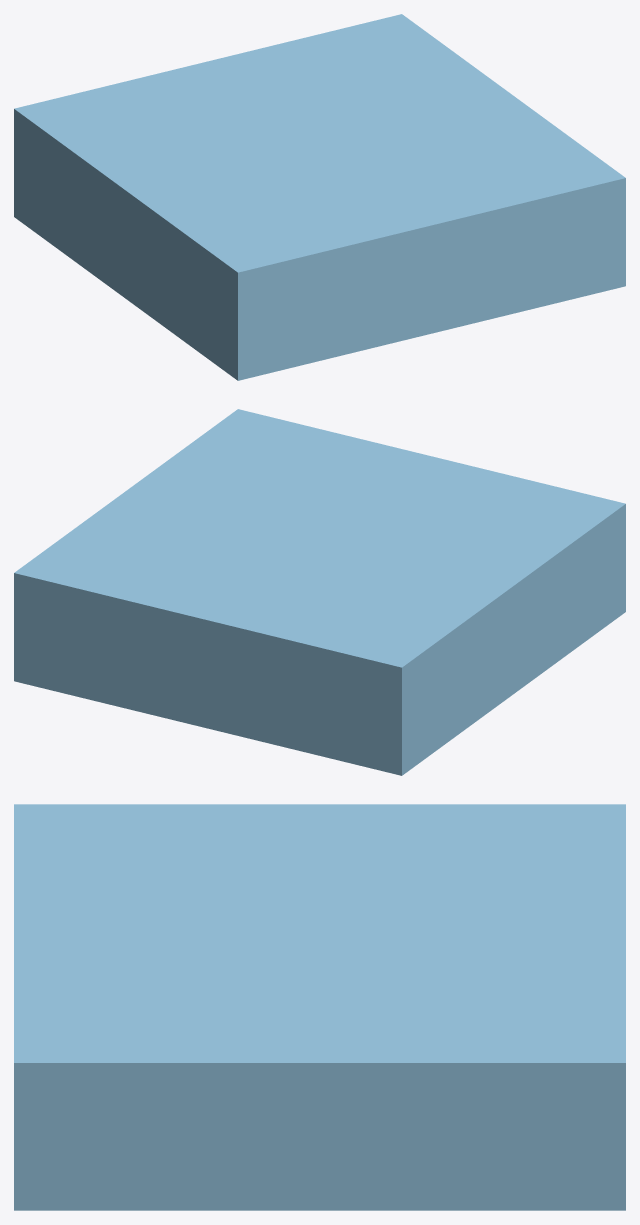
Rendered from wwt_inner.dae.
3 views of the same model, one above another, from view 1: azimuth 30°, elevation 25°; view 2: azimuth 150°, elevation 25°; view 3: azimuth 270°, elevation 25° (orthographic). The views are drawn at different scales.
Parts seen in each view (by area): view 1: ID2; view 2: ID2; view 3: ID2.
Part boxes in pixels (x1,y1,x2,y2): ID2: [14, 14, 625, 380]; ID2: [14, 409, 625, 775]; ID2: [14, 804, 625, 1210].
Bounding box in the file's own units: 30 × 30 × 8.
